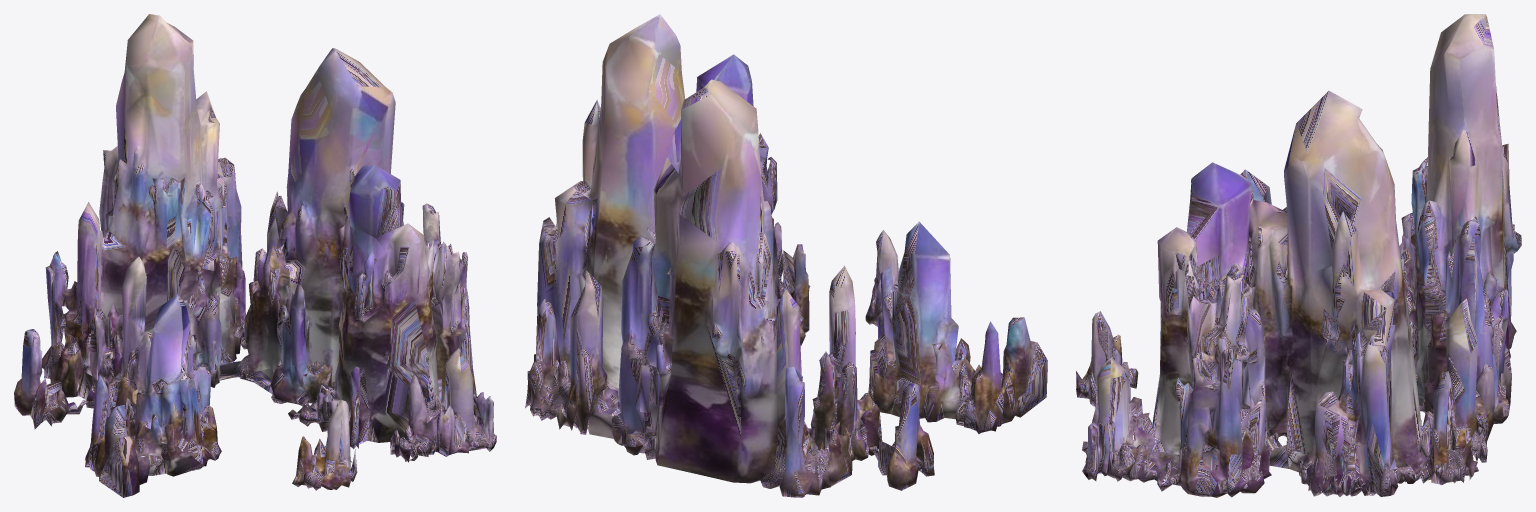
File: Crystal_Peaks_PBR_.glb
The picture shows the model from 3 angles, left to right: view 1: azimuth 30°, elevation 25°; view 2: azimuth 150°, elevation 25°; view 3: azimuth 270°, elevation 25°; orthographic projection. The views are drawn at different scales.
Visible parts, largest first — view 1: Crystal_Peaks_PBR_; view 2: Crystal_Peaks_PBR_; view 3: Crystal_Peaks_PBR_.
Boxes of the visible parts, bbox=[...] form: Crystal_Peaks_PBR_: bbox=[14, 14, 496, 497]; Crystal_Peaks_PBR_: bbox=[525, 14, 1047, 497]; Crystal_Peaks_PBR_: bbox=[1076, 14, 1521, 497].
Size of the model in its own units: 1.99 by 1.79 by 1.89.
1 material, 1 textured.
